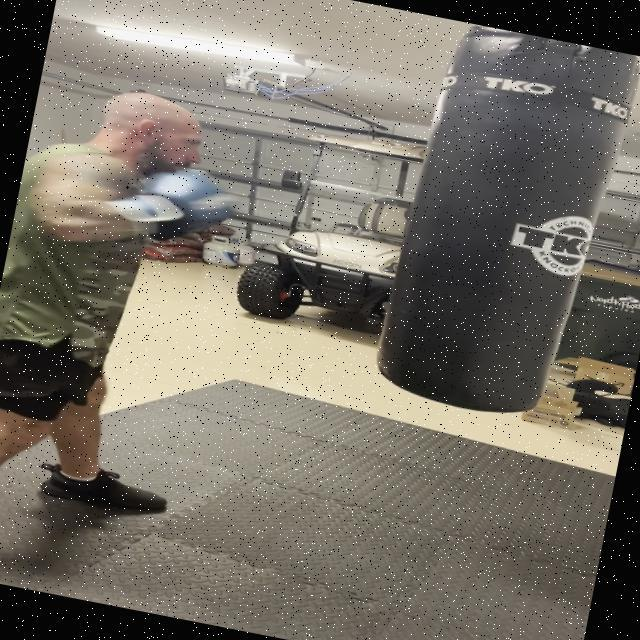bag: (29, 85, 251, 262)
